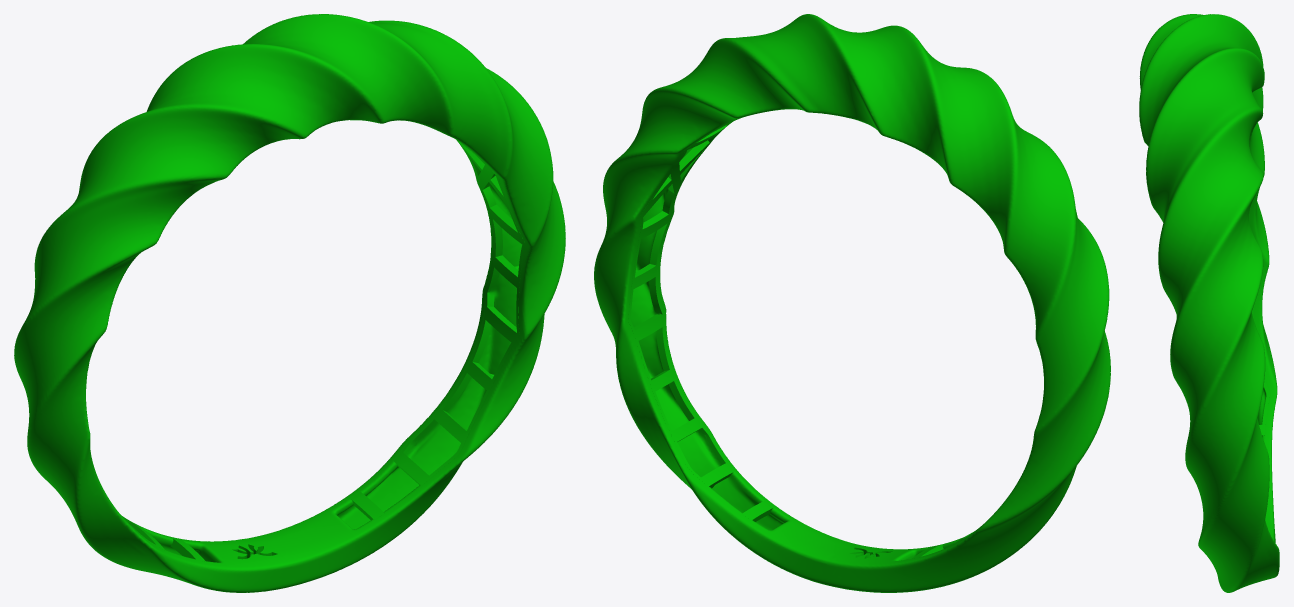
3 views of the same model, side by side, from view 1: azimuth 30°, elevation 25°; view 2: azimuth 150°, elevation 25°; view 3: azimuth 270°, elevation 25° (orthographic). The views are drawn at different scales.
Parts seen in each view (by area): view 1: RNG-2511159.3dm; view 2: RNG-2511159.3dm; view 3: RNG-2511159.3dm.
Boxes of the visible parts, x1,y1,x2,y2 form: RNG-2511159.3dm: [14, 14, 565, 592]; RNG-2511159.3dm: [594, 14, 1110, 592]; RNG-2511159.3dm: [1139, 14, 1279, 592].
Bounding box in the file's own units: 2.77 × 2.81 × 0.6834.
